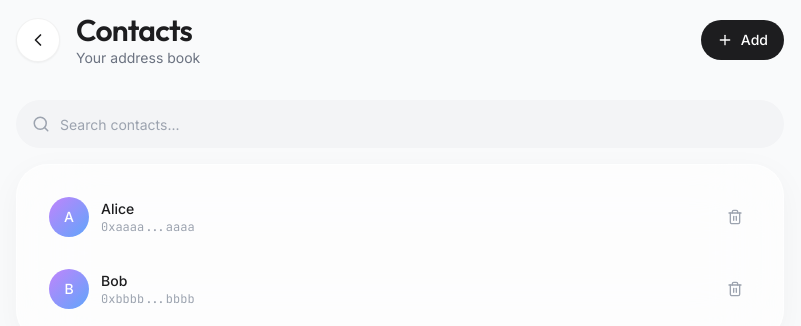
Test case: Contacts — search filter (§15.x) › filters by nickname substring (case-insensitive)
The width and height of the screenshot is (801, 326).
Type "alic" into the field with placeholder "Search contacts..." at (400, 124), box [16, 100, 784, 148]
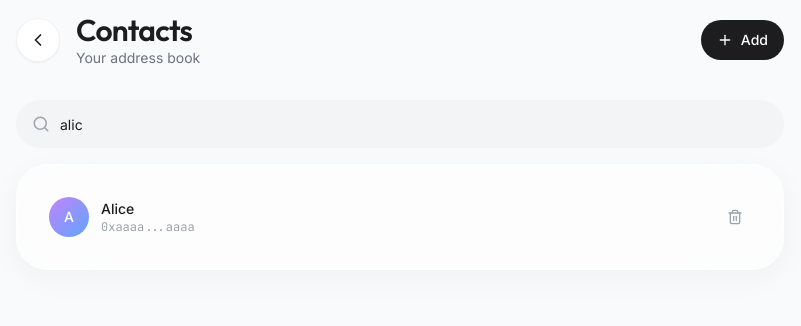
Expected: the text "Alice" is shown, [101, 200, 134, 217]
Expected: the text "Bob" is gone
